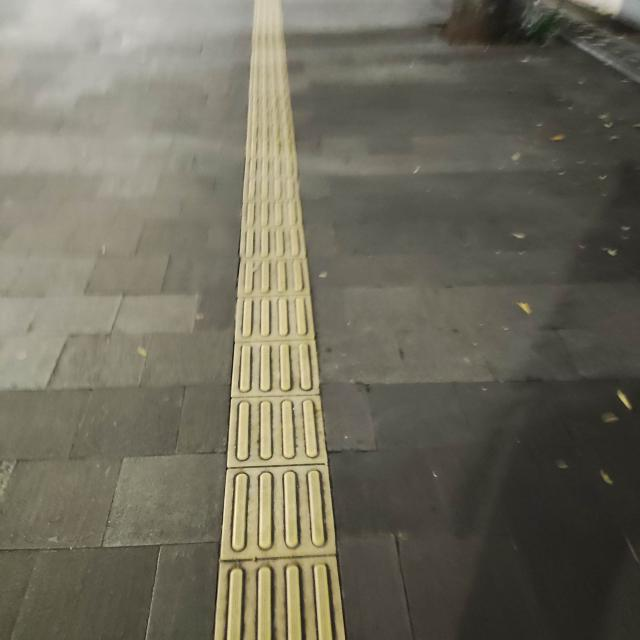lurus: (208, 13, 331, 640)
